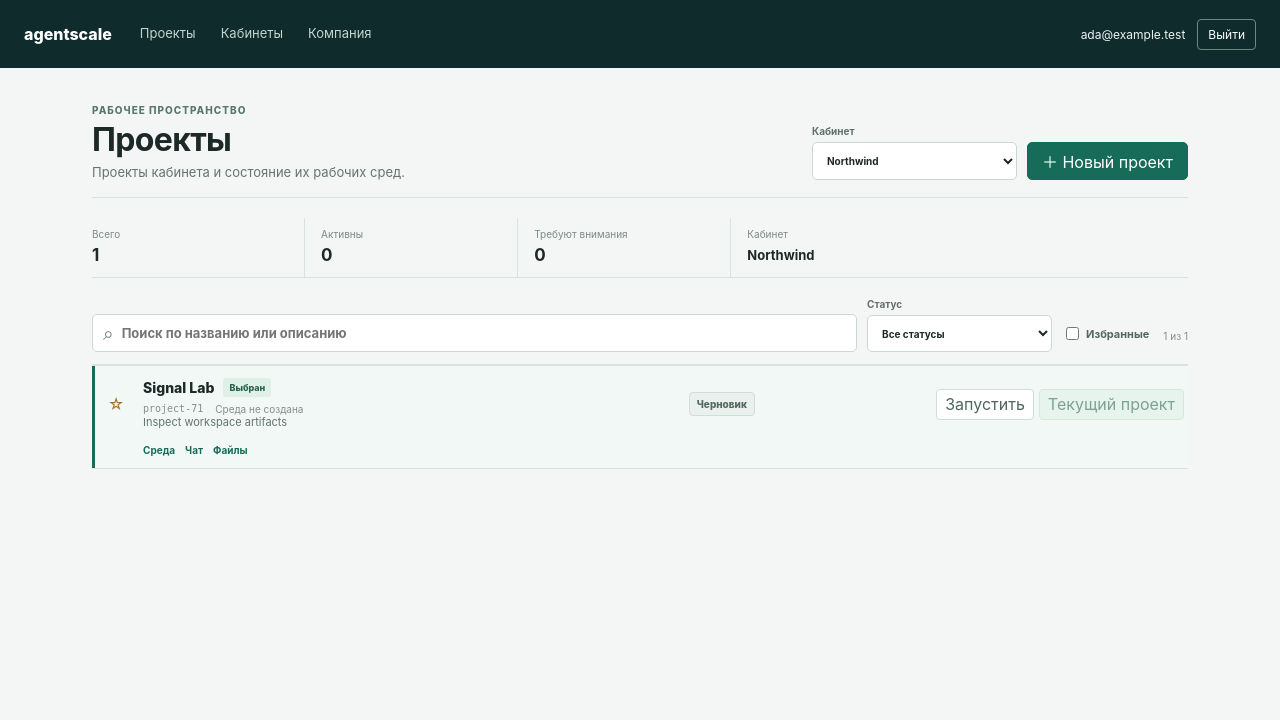
employee workspace integration acceptance › launches a draft project through the overview lifecycle route and confirms refreshed state
This screenshot has width=1280, height=720.
Click the button "Запустить". click: (985,404)
box: left=936, top=389, right=1034, bottom=420
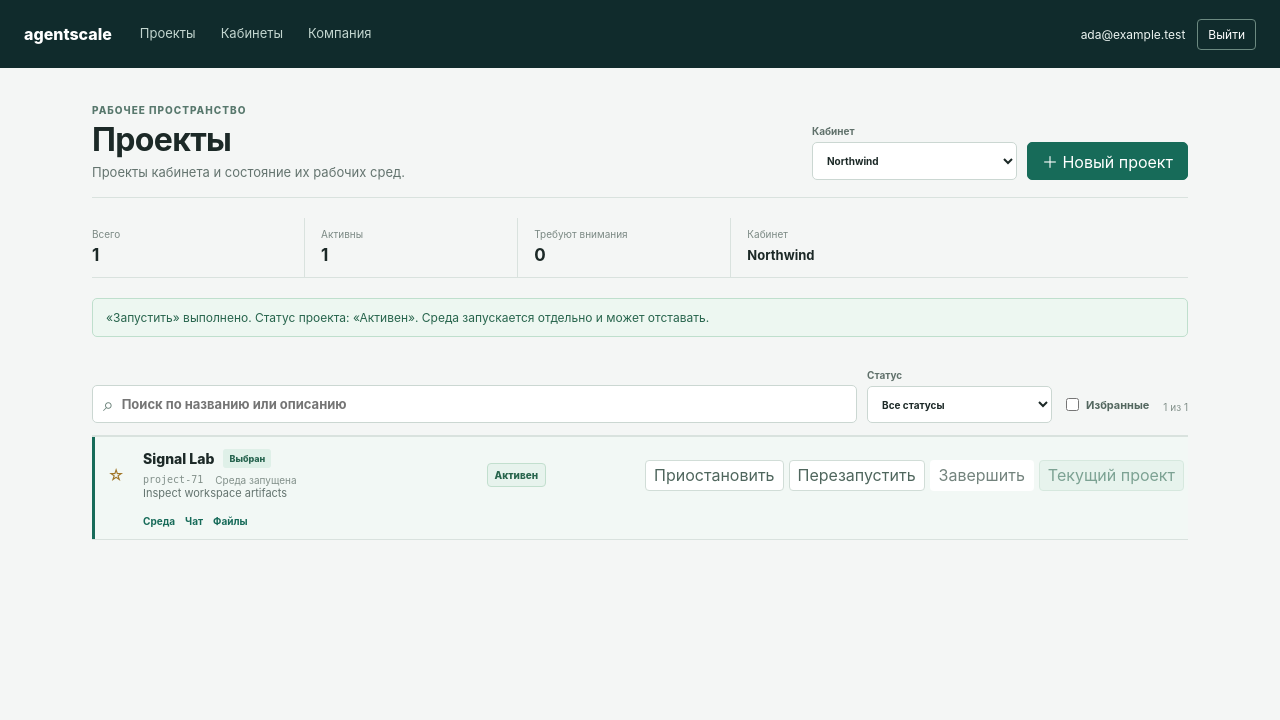
Now the text "Активен" is shown, box left=106, top=310, right=709, bottom=325
